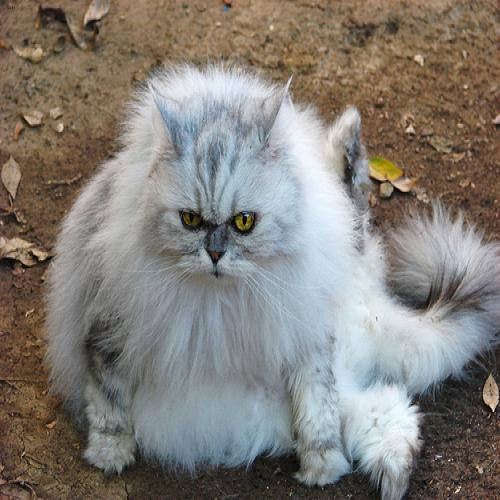persian: (143, 79, 301, 290)
